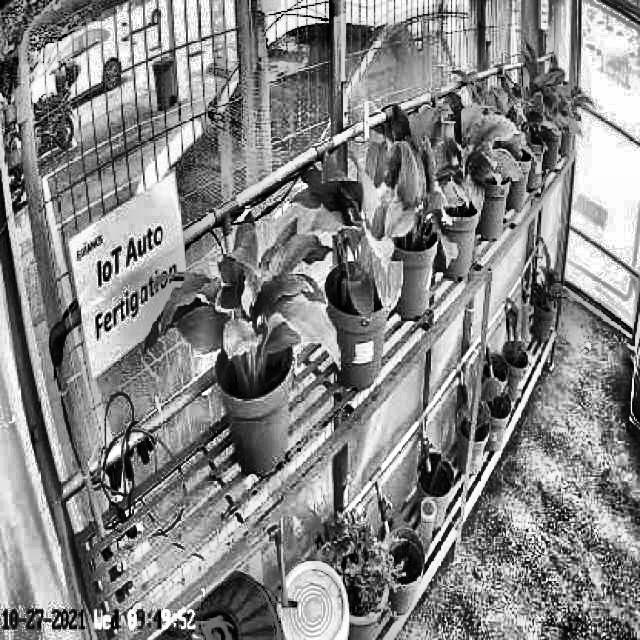plants: (146, 215, 340, 400), (288, 149, 402, 322), (358, 106, 460, 262), (410, 97, 524, 205)
